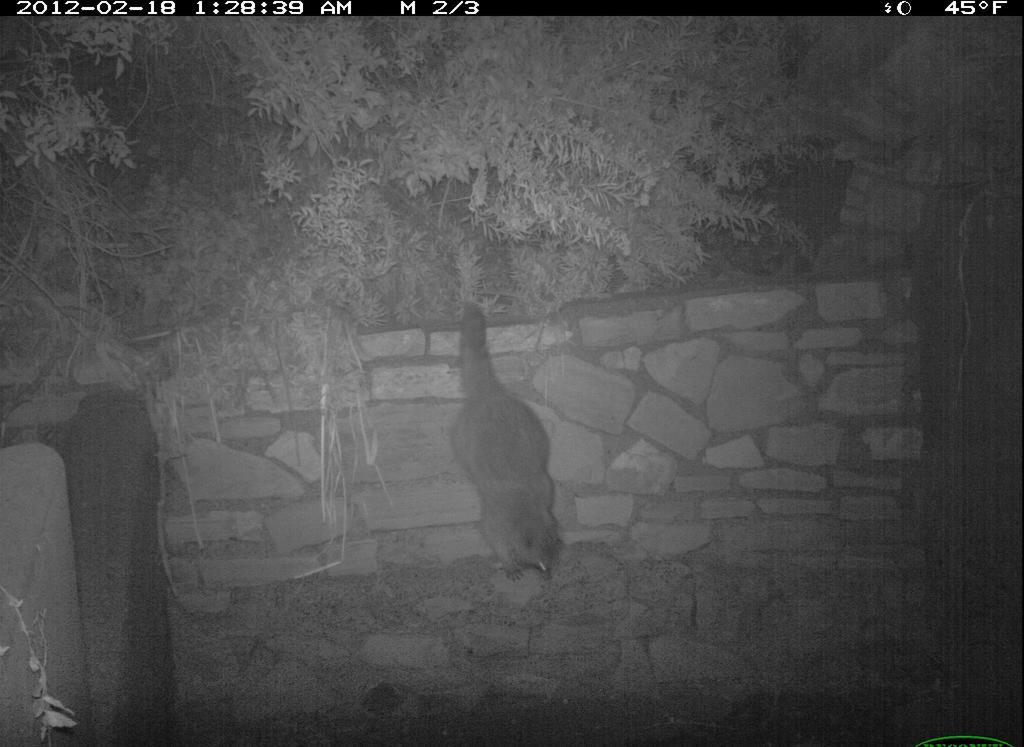raccoon: (385, 259, 612, 603)
